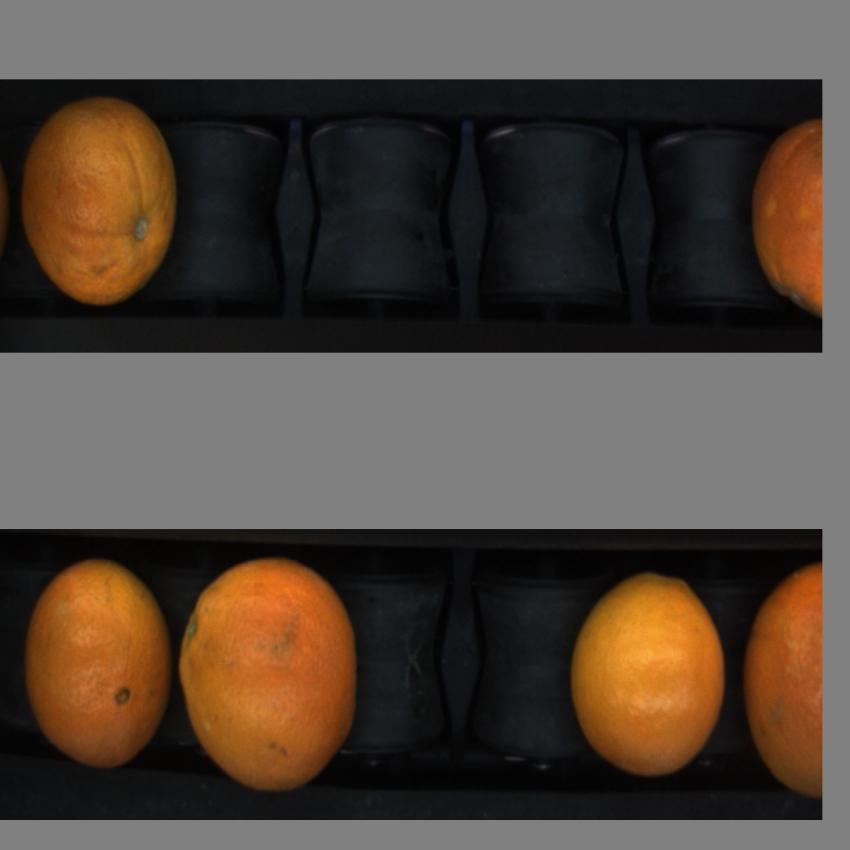Buen estado: (178, 553, 364, 790), (564, 560, 729, 782), (19, 557, 175, 771)
Mal estado: (17, 91, 185, 312), (741, 560, 824, 817), (742, 106, 824, 330)
